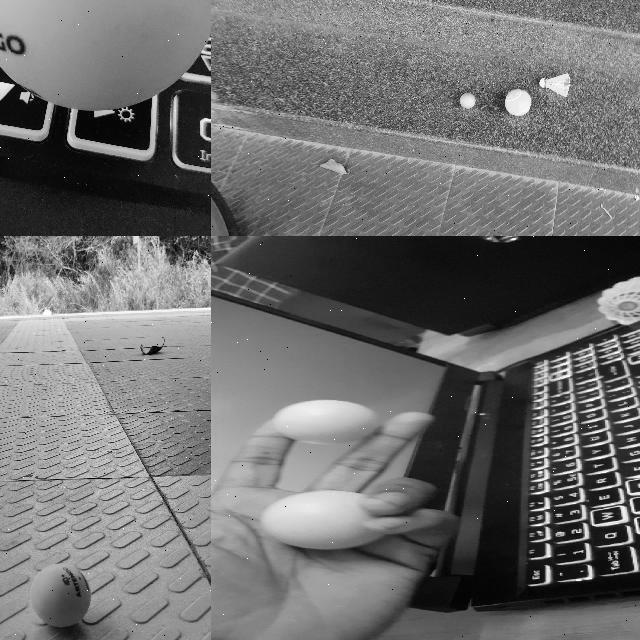ping-pong-ball: (0, 0, 210, 111), (264, 490, 379, 550), (272, 400, 377, 442), (31, 564, 91, 628), (460, 94, 474, 108)
